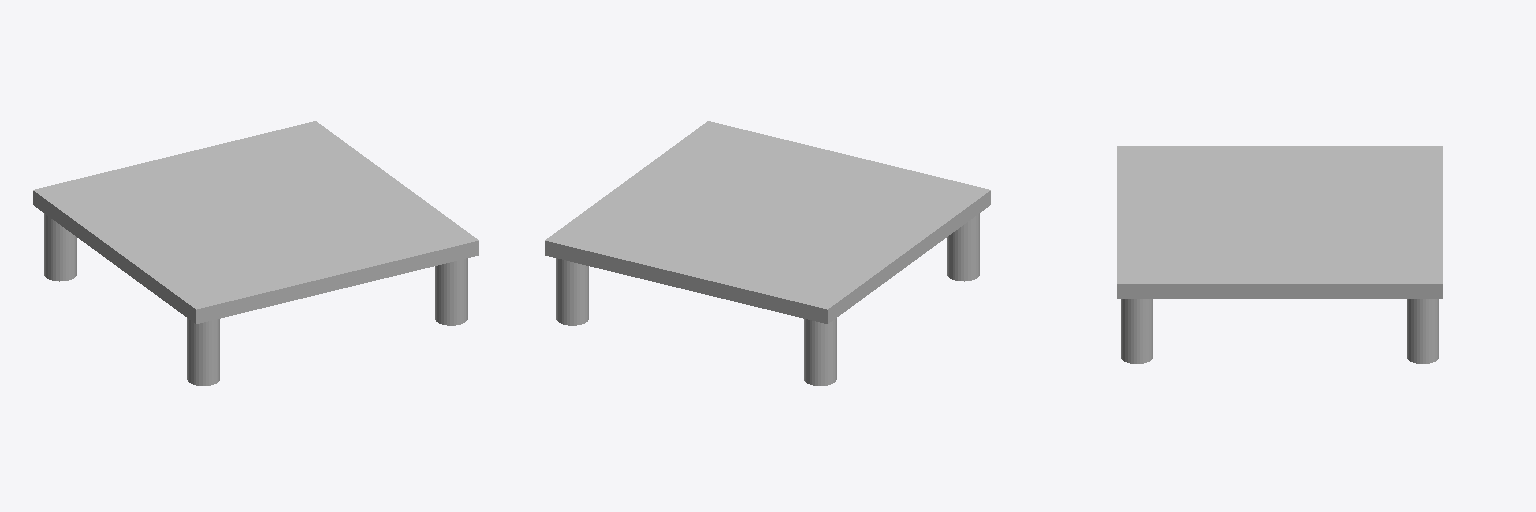
Rendered from Table.obj.
The picture shows the model from 3 angles: view 1: azimuth 30°, elevation 25°; view 2: azimuth 150°, elevation 25°; view 3: azimuth 270°, elevation 25°; orthographic projection.
Visible parts, largest first — view 1: Table.001; view 2: Table.001; view 3: Table.001.
Boxes of the visible parts, x1,y1,x2,y2 form: Table.001: [33, 121, 478, 385]; Table.001: [545, 121, 990, 385]; Table.001: [1117, 146, 1442, 363].
Size of the model in its own units: 4 by 1.1 by 4.